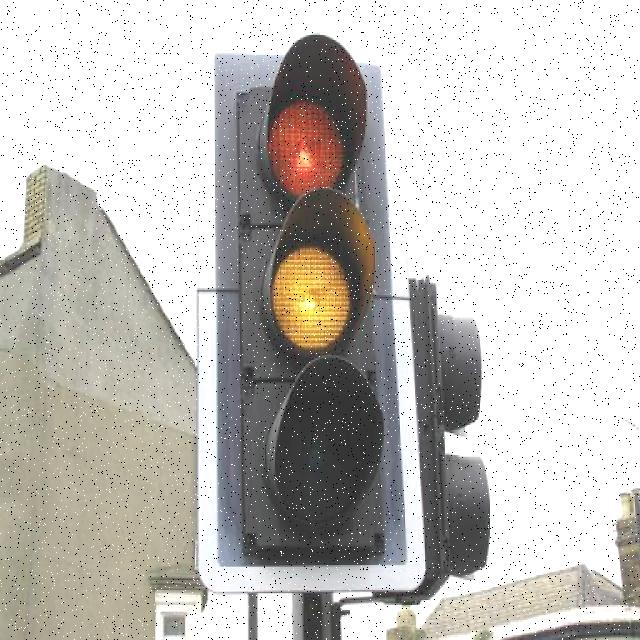Zolte swiatlo: (239, 37, 384, 564)
